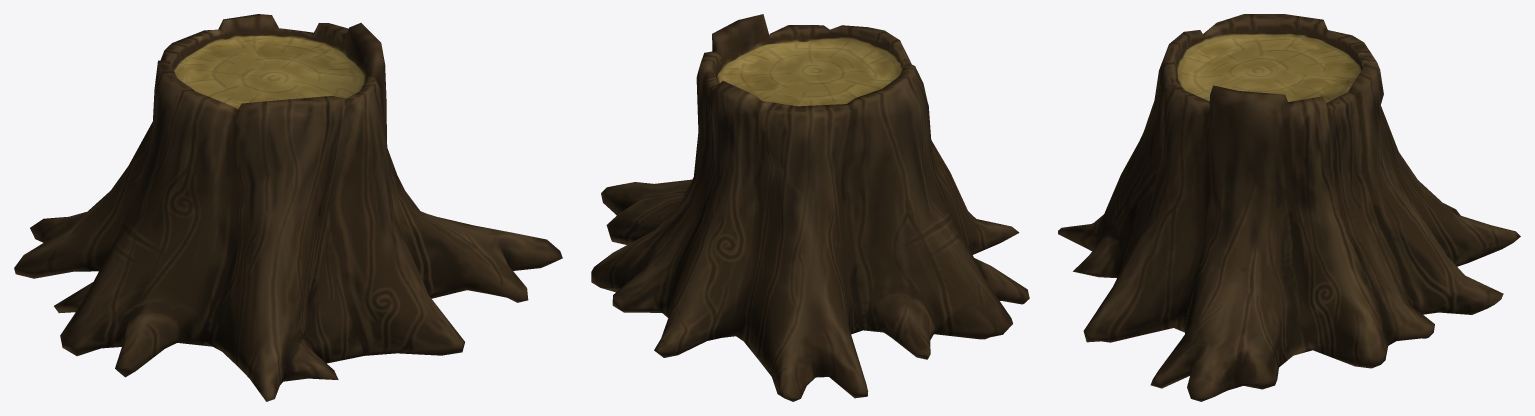
The model's file is stump.glb.
The picture shows the model from 3 angles, left to right: view 1: azimuth 30°, elevation 25°; view 2: azimuth 150°, elevation 25°; view 3: azimuth 270°, elevation 25°; orthographic projection. The views are drawn at different scales.
Visible parts, largest first — view 1: Object_2; view 2: Object_2; view 3: Object_2.
Boxes of the visible parts, x1=… form: Object_2: x1=14, y1=14, x2=562, y2=401; Object_2: x1=591, y1=14, x2=1029, y2=401; Object_2: x1=1058, y1=14, x2=1520, y2=401.
Bounding box in the file's own units: 2 × 1.07 × 1.78.
1 material, 1 textured.
